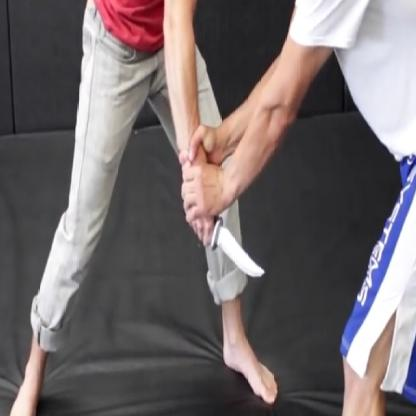knife: (182, 202, 269, 290)
